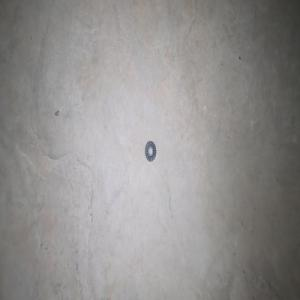Washer: (144, 140, 156, 161)
